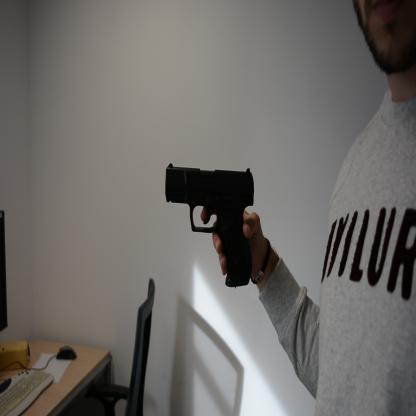pistol: (165, 162, 255, 289)
